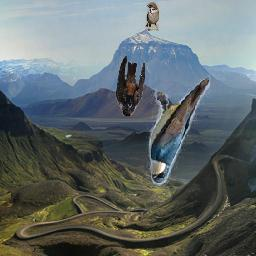Sparrow: (145, 3, 159, 32)
Swallow: (146, 75, 212, 187), (115, 56, 145, 117)
